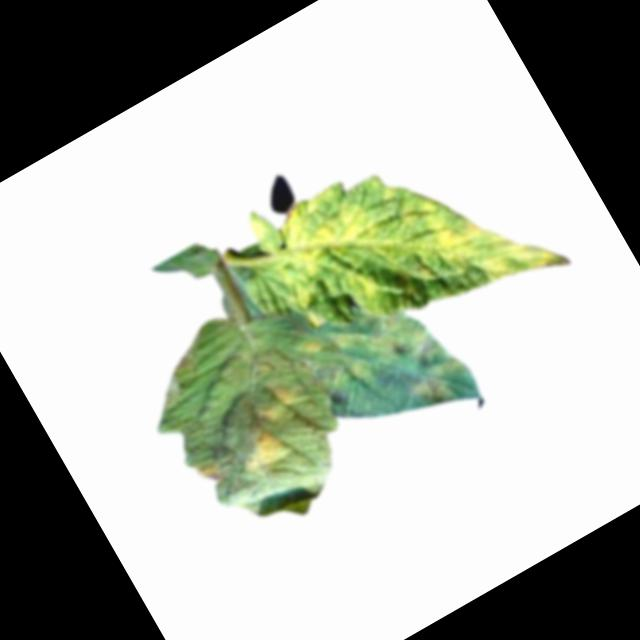Leaf_Mold: (359, 111, 570, 335), (293, 274, 476, 453), (250, 173, 415, 339), (233, 419, 295, 478), (248, 375, 303, 425), (191, 456, 228, 490)
